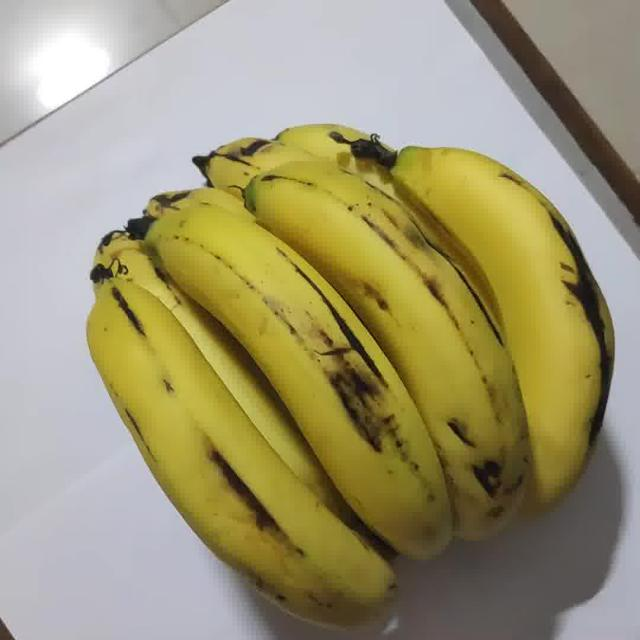banana_pacche: (52, 34, 616, 640)
